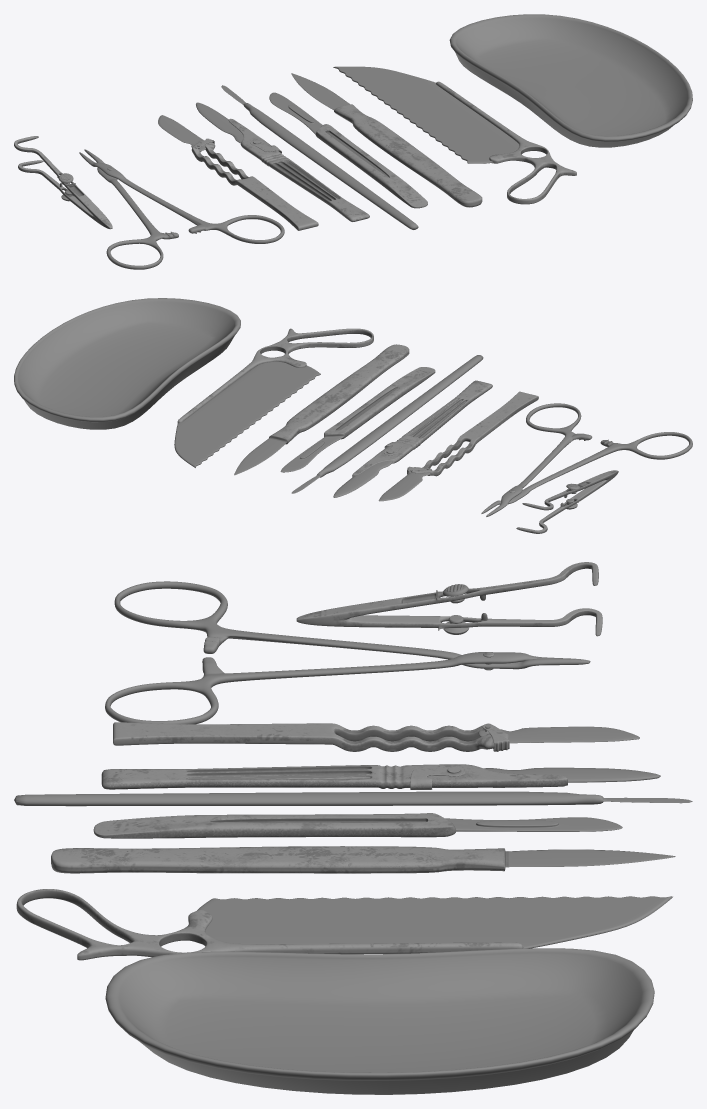
The model's file is Surgery Tools.fbx.
The picture shows the model from 3 angles, top to bottom: view 1: azimuth 30°, elevation 25°; view 2: azimuth 150°, elevation 25°; view 3: azimuth 270°, elevation 25°; orthographic projection. The views are drawn at different scales.
Visible parts, largest first — view 1: Plane.040, Plane.044, Cube.040, Plane.042, Plane.048, Cube.039, Plane.045, Cylinder.081, Plane.041; view 2: Plane.040, Plane.044, Cube.040, Plane.042, Plane.048, Plane.045, Cube.039, Cylinder.081, Plane.041; view 3: Plane.040, Plane.044, Cube.040, Plane.048, Cube.039, Plane.045, Plane.042, Cylinder.081, Plane.041.
Boxes of the visible parts, x1,y1,x2,y2 form: Plane.040: (449, 14, 692, 147); Plane.044: (333, 66, 576, 204); Cube.040: (291, 73, 482, 207); Plane.042: (79, 149, 284, 269); Plane.048: (196, 102, 369, 221); Cube.039: (269, 92, 427, 208); Plane.045: (158, 115, 318, 230); Cylinder.081: (221, 85, 418, 229); Plane.041: (14, 136, 112, 229); Plane.040: (14, 298, 240, 429); Plane.044: (174, 328, 373, 467); Cube.040: (234, 344, 409, 475); Plane.042: (481, 403, 692, 516); Plane.048: (333, 380, 492, 497); Plane.045: (378, 391, 538, 501); Cube.039: (280, 367, 435, 472); Cylinder.081: (291, 355, 483, 493); Plane.041: (516, 470, 618, 533); Plane.040: (105, 948, 654, 1094); Plane.044: (16, 889, 672, 960); Cube.040: (51, 846, 675, 873); Plane.048: (101, 764, 660, 789); Cube.039: (93, 813, 622, 838); Plane.045: (113, 722, 639, 751); Plane.042: (105, 581, 590, 724); Cylinder.081: (14, 791, 692, 806); Plane.041: (296, 562, 602, 636).
Size of the model in its own units: 123 by 6.32 by 68.08.
2 materials, 2 textured.
